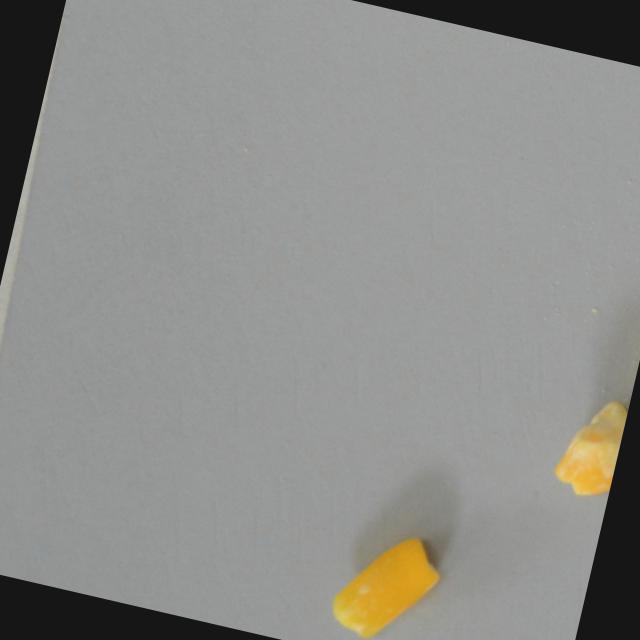dañado: (545, 383, 631, 505)
pelicula: (319, 516, 450, 640)
